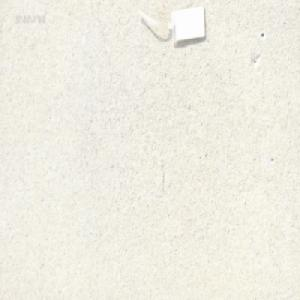LuggageTag: (135, 0, 208, 47)
